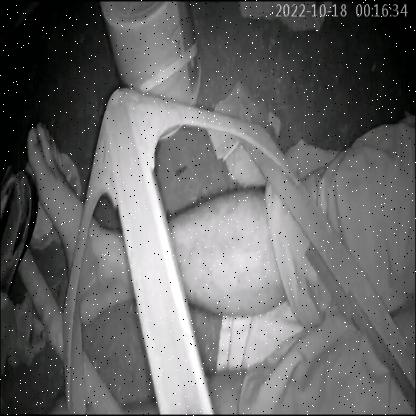leg: (19, 114, 284, 331)
